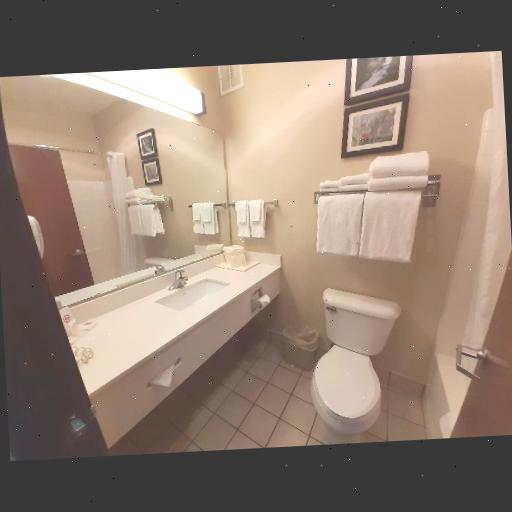clean mirror: (14, 105, 244, 286)
clean_floor: (99, 328, 430, 459)
clean_sink: (49, 242, 287, 450)
clean_toilet: (288, 278, 414, 462)
folded_towel: (309, 192, 428, 262), (370, 152, 436, 195), (230, 196, 268, 242), (317, 172, 370, 198)
